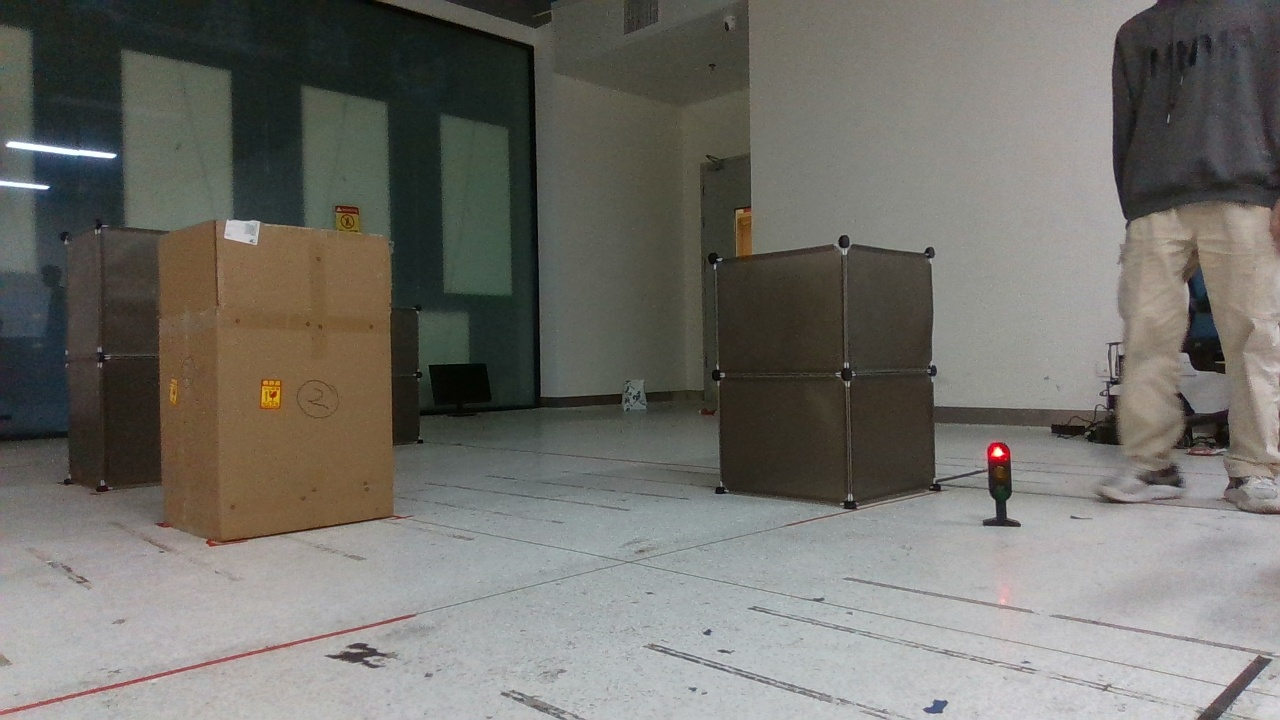red_light: (968, 435, 1037, 543)
